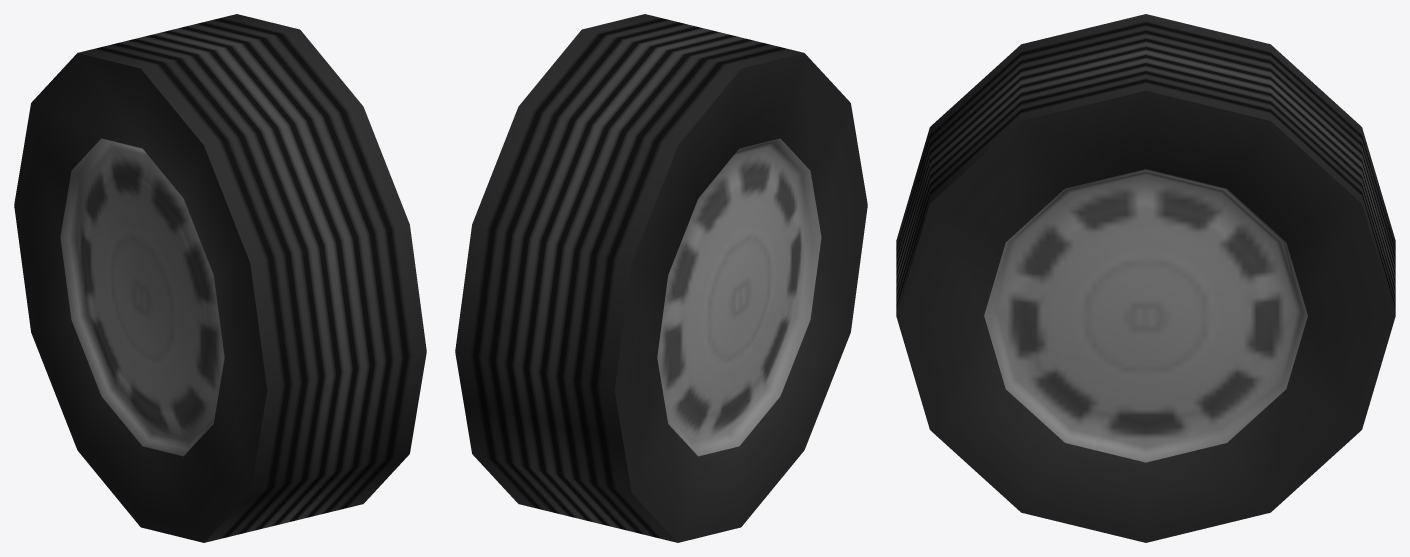
The model's file is DXWheel.fbx.
The picture shows the model from 3 angles, left to right: view 1: azimuth 30°, elevation 25°; view 2: azimuth 150°, elevation 25°; view 3: azimuth 270°, elevation 25°; orthographic projection.
Visible parts, largest first — view 1: WheelCovetA; view 2: WheelCovetA; view 3: WheelCovetA.
Part boxes in pixels (box(x1,y1,x2,y2)): WheelCovetA: box(14, 14, 426, 542); WheelCovetA: box(455, 14, 867, 542); WheelCovetA: box(896, 14, 1395, 542).
Size of the model in its own units: 0.2341 by 0.6434 by 0.6434.
